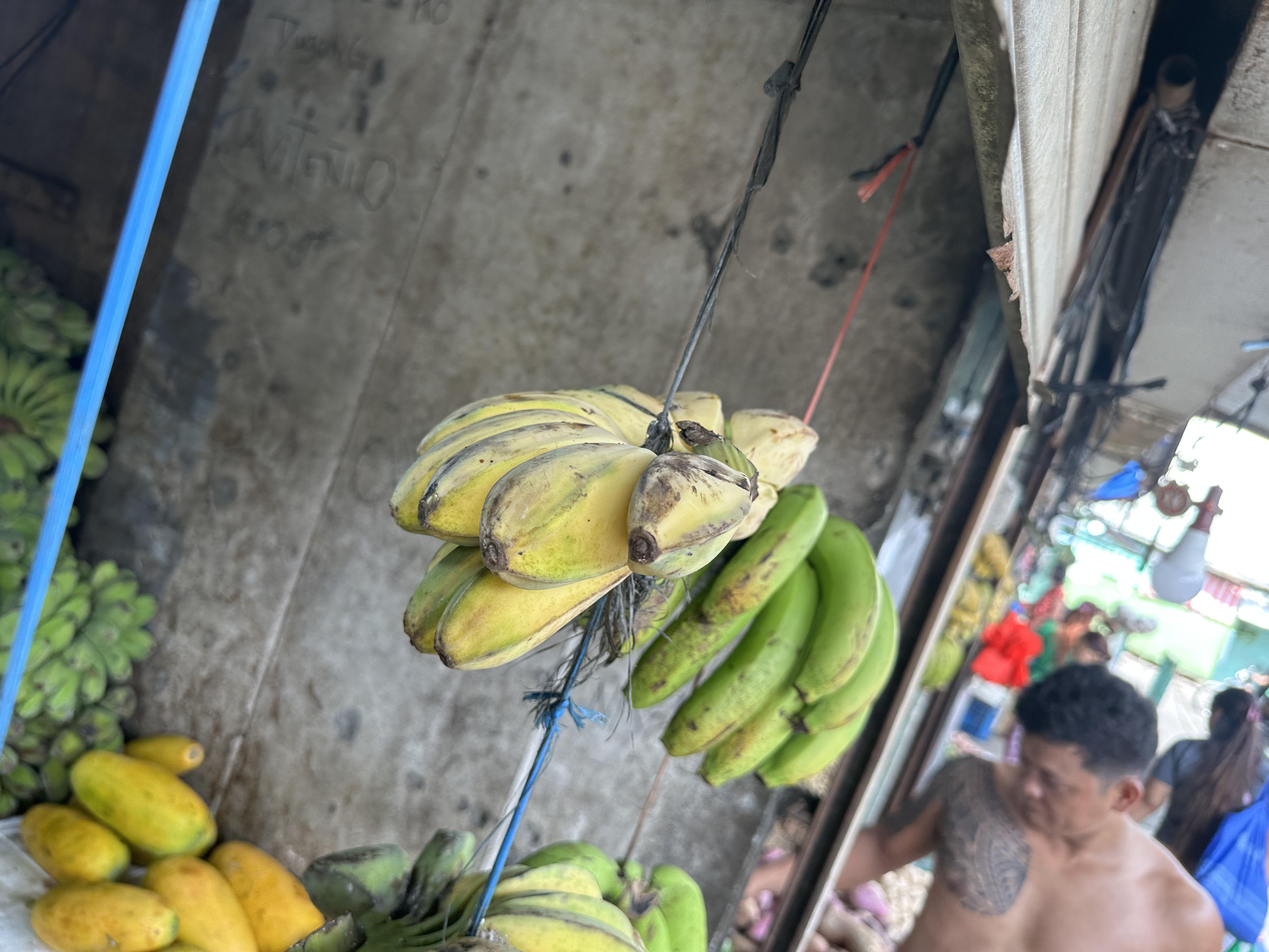underripe: (388, 383, 753, 668)
